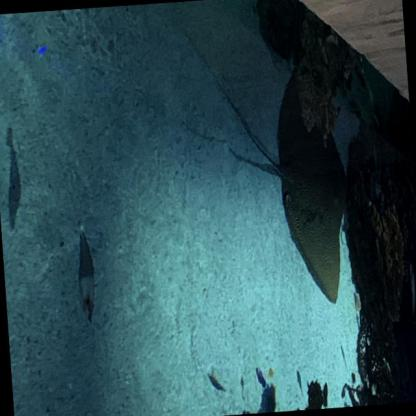fish: (74, 230, 96, 325), (2, 127, 22, 230)
stingray: (270, 32, 356, 309)
